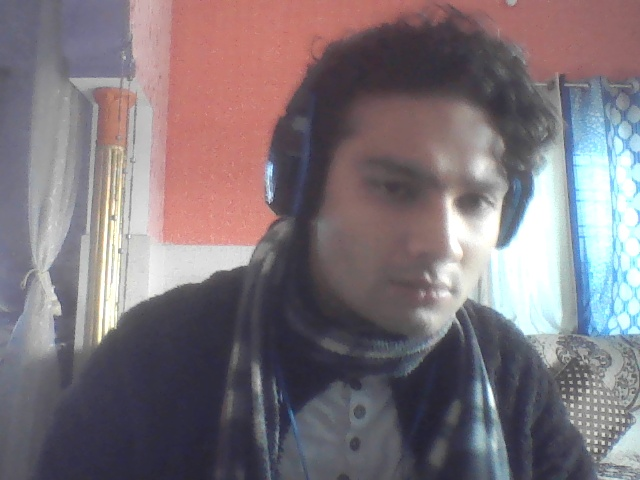real: (277, 7, 527, 362)
